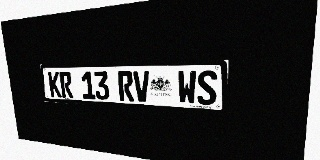1: (80, 71, 96, 99)
3: (94, 71, 109, 100)
K: (48, 72, 62, 98)
R: (118, 71, 134, 101), (59, 72, 73, 98)
S: (197, 70, 217, 106)
V: (133, 71, 150, 102)
W: (177, 71, 196, 105)
